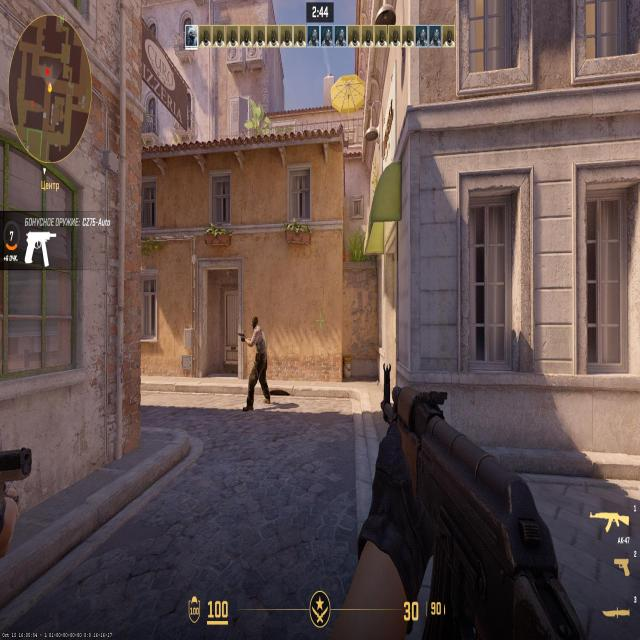T: (250, 318, 270, 406)
T_heat: (252, 319, 258, 328)
